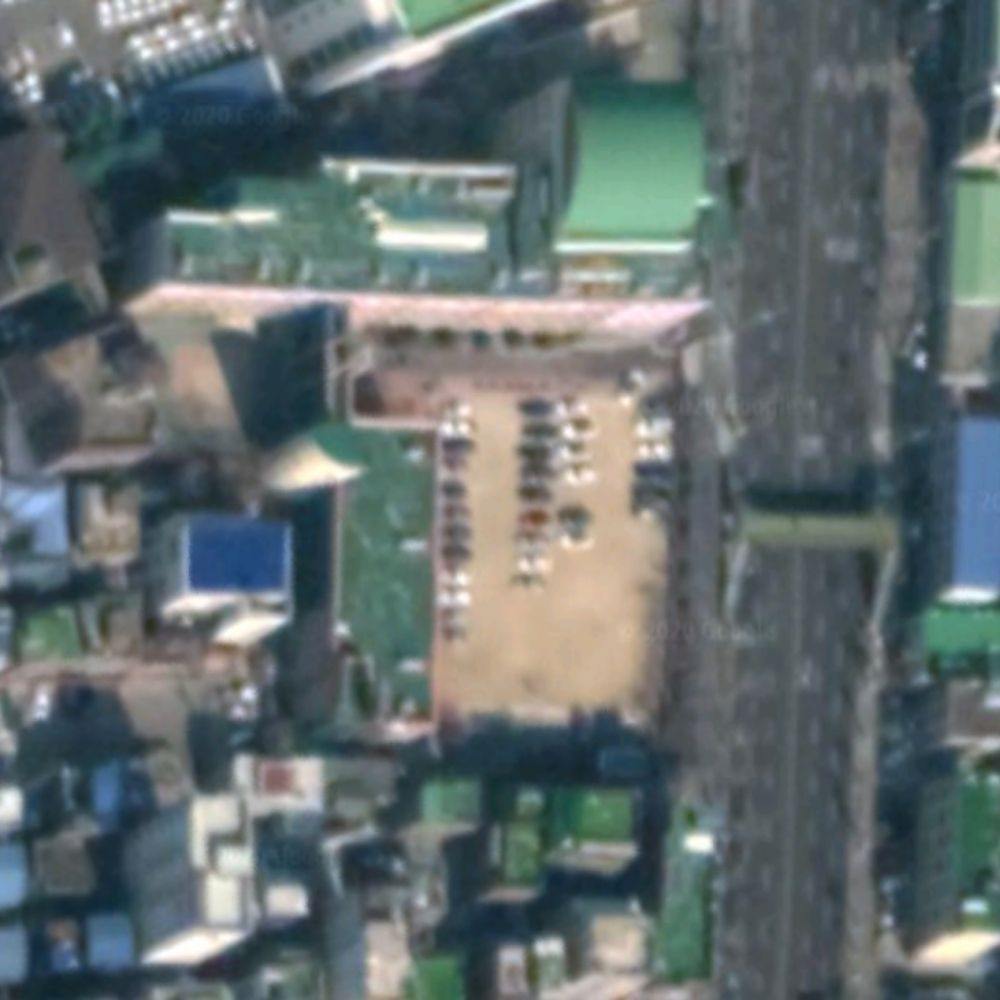parking: (430, 380, 660, 735)
